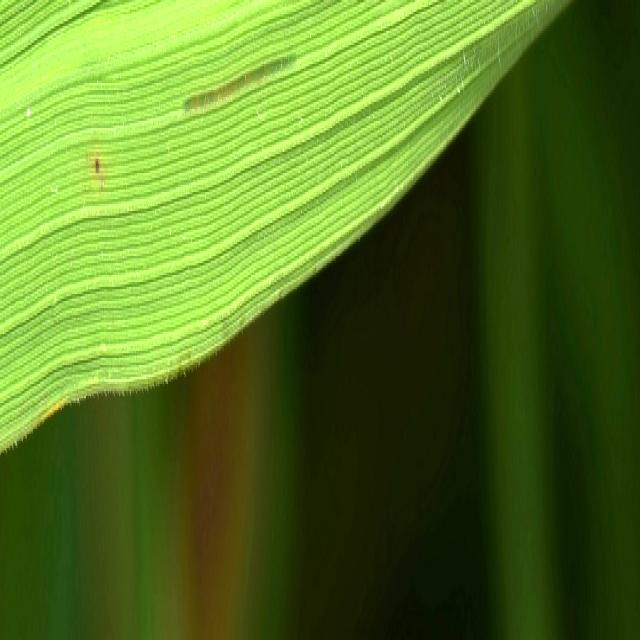BLS: (184, 54, 297, 114)
